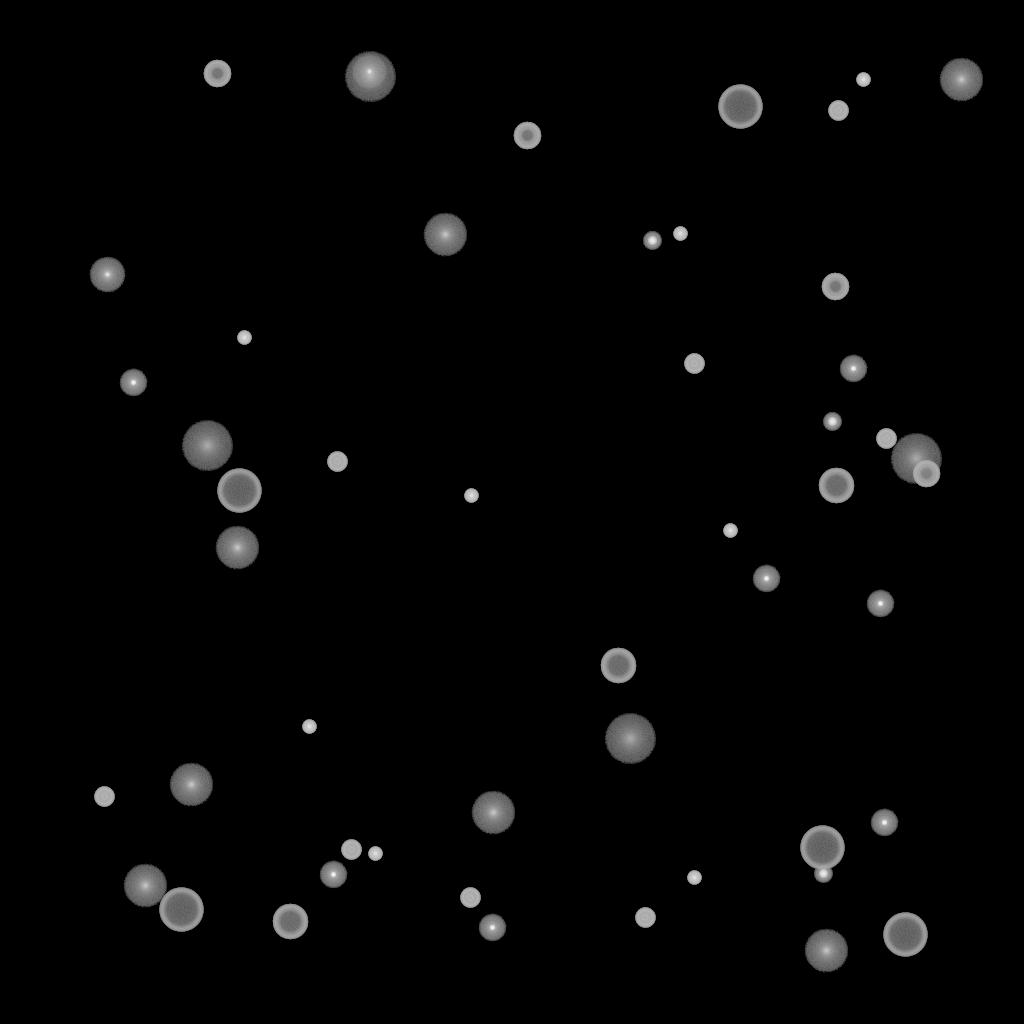depth:-10: (752, 565, 780, 593), (119, 369, 147, 397), (839, 355, 867, 383), (319, 861, 347, 889), (478, 914, 506, 942), (870, 809, 898, 837), (866, 590, 894, 618)
depth:-20: (814, 865, 832, 883), (643, 232, 661, 250), (823, 413, 841, 431)
depth:-30: (302, 720, 316, 734), (723, 524, 737, 538), (856, 73, 870, 87), (237, 331, 251, 345), (673, 227, 687, 241), (687, 871, 701, 885), (464, 489, 478, 503), (368, 847, 382, 861)
depth:-40: (684, 354, 704, 374), (635, 908, 655, 928), (828, 101, 848, 121), (876, 429, 896, 449), (460, 888, 480, 908), (341, 840, 361, 860), (94, 787, 114, 807), (327, 452, 347, 472)
depth:-50: (513, 122, 541, 150), (912, 460, 940, 488), (821, 273, 849, 301), (203, 60, 231, 88)
depth:-60: (272, 904, 308, 940), (818, 468, 854, 504), (600, 648, 636, 684)
depth:-70: (159, 888, 203, 932), (800, 826, 844, 870), (883, 913, 927, 957), (718, 85, 762, 129), (217, 469, 261, 513)
depth:0: (351, 54, 387, 90), (89, 257, 125, 293)
depth:10: (471, 791, 515, 835), (423, 213, 467, 257), (169, 763, 213, 807), (123, 864, 167, 908), (804, 929, 848, 973), (215, 526, 259, 570), (939, 58, 983, 102)
depth:20: (181, 421, 233, 471), (890, 434, 942, 484), (344, 52, 396, 102), (604, 714, 656, 764)
